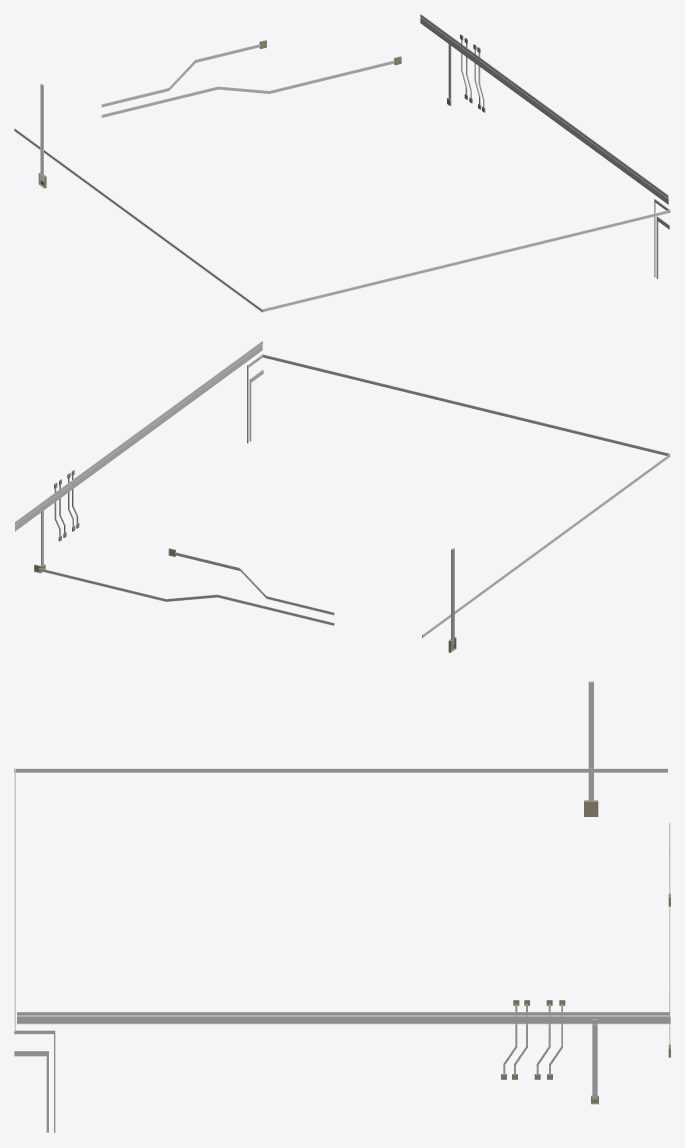
Rendered from shiyanlou_A03_qiangmian.fbx.
3 renders of one model, top to bottom at view 1: azimuth 30°, elevation 25°; view 2: azimuth 150°, elevation 25°; view 3: azimuth 270°, elevation 25°, orthographic. The views are drawn at different scales.
Parts seen in each view (by area): view 1: shiyanlou_A03_qiangmian; view 2: shiyanlou_A03_qiangmian; view 3: shiyanlou_A03_qiangmian.
Part boxes in pixels (x1,y1,x2,y2): shiyanlou_A03_qiangmian: [14, 14, 670, 312]; shiyanlou_A03_qiangmian: [14, 341, 670, 652]; shiyanlou_A03_qiangmian: [14, 681, 670, 1132].
Bounding box in the file's own units: 1469 × 490 × 1546.
